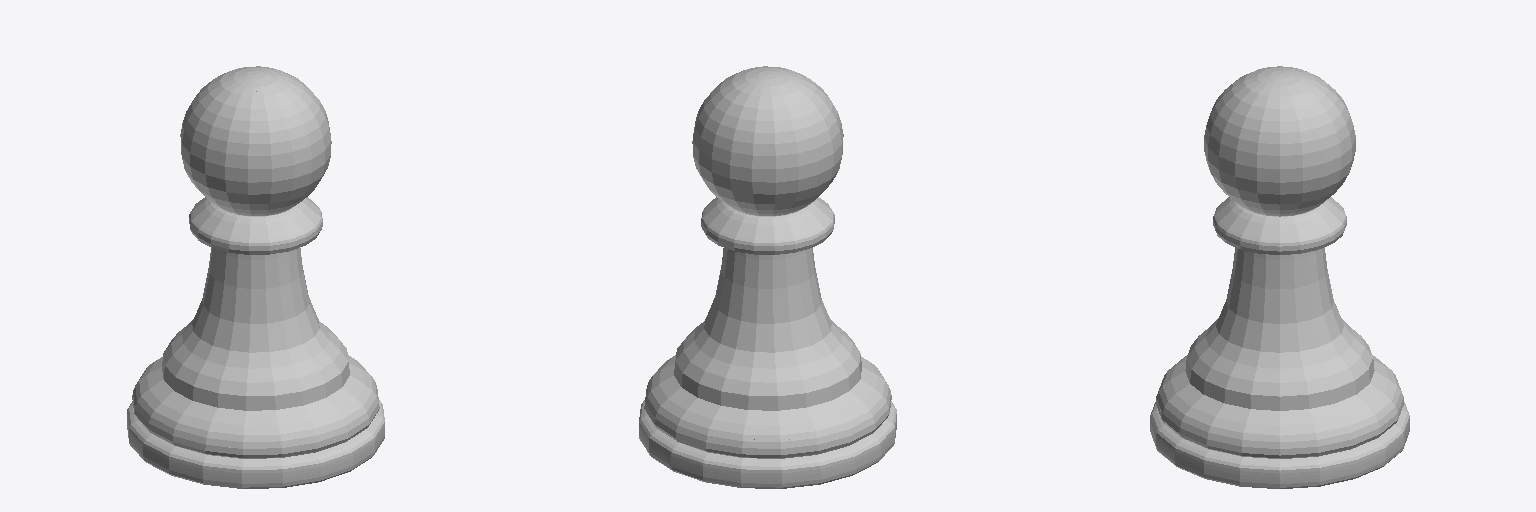
File: pawn_b_2.obj
3 views of the same model, side by side, from view 1: azimuth 30°, elevation 25°; view 2: azimuth 150°, elevation 25°; view 3: azimuth 270°, elevation 25° (orthographic).
Visible parts, largest first — view 1: pawn_b_2; view 2: pawn_b_2; view 3: pawn_b_2.
Boxes of the visible parts, x1,y1,x2,y2 form: pawn_b_2: [127, 66, 384, 488]; pawn_b_2: [639, 66, 896, 488]; pawn_b_2: [1150, 66, 1409, 488].
Size of the model in its own units: 2.73 by 4.2 by 2.73.